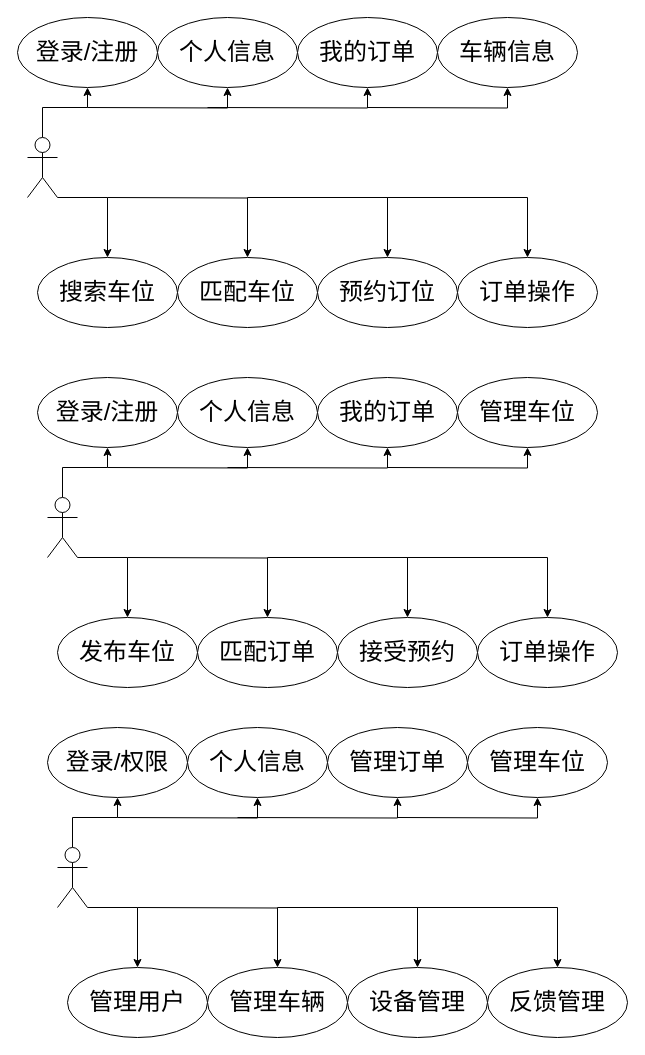
This 645x1055 diagram has some shape labels left out. The box of each missing label's shape, as (x1, y1, x2, y2) in pixels:
平台管理: (56, 846, 88, 908)
车位管理: (46, 496, 78, 558)
预约用户: (26, 136, 58, 198)
